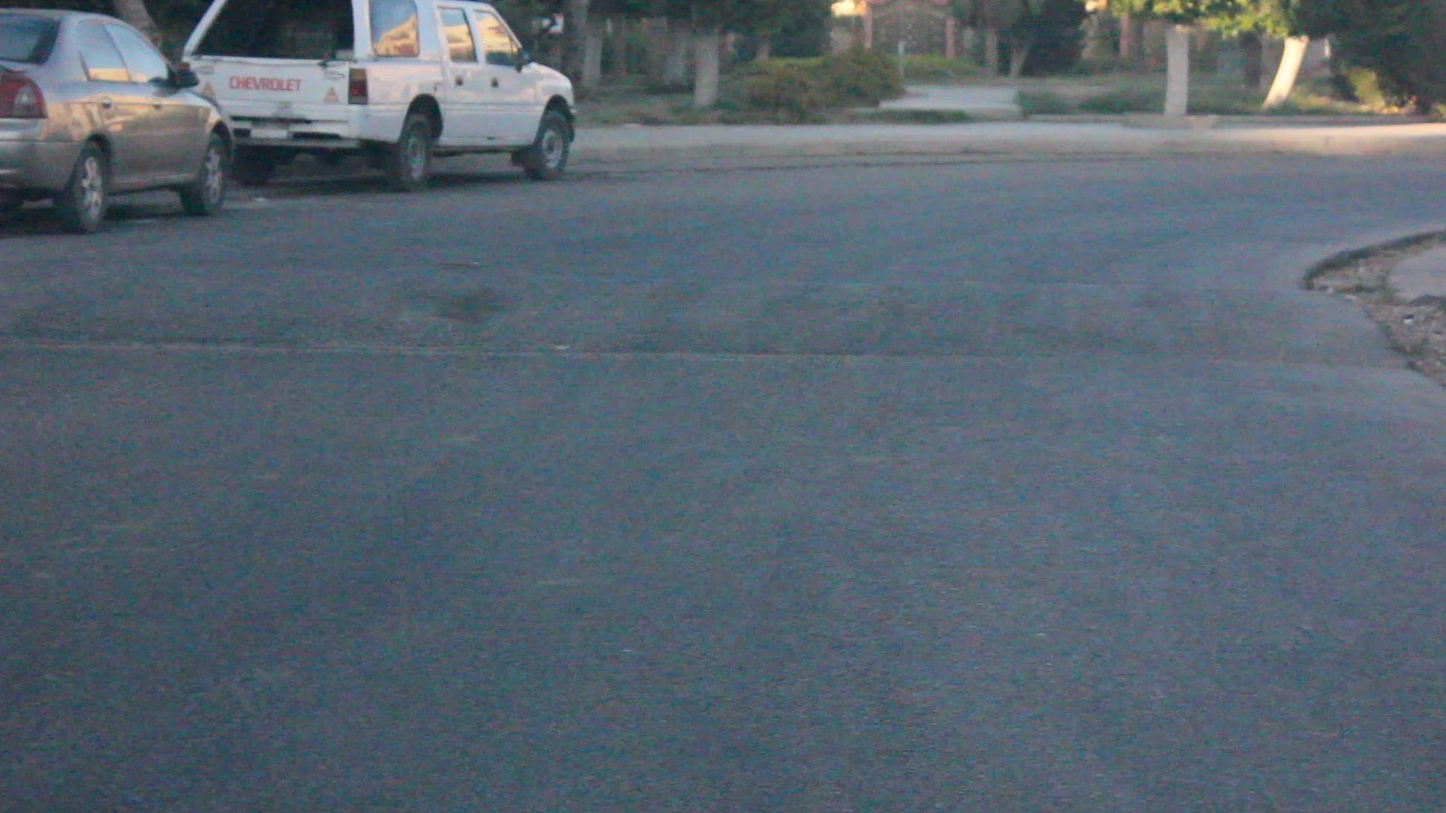Bump: (2, 243, 1393, 382)
